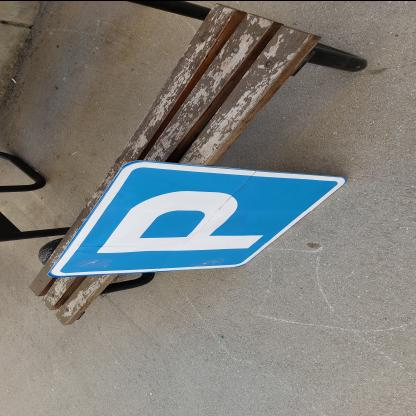Parking-Sign: (48, 158, 357, 276)
